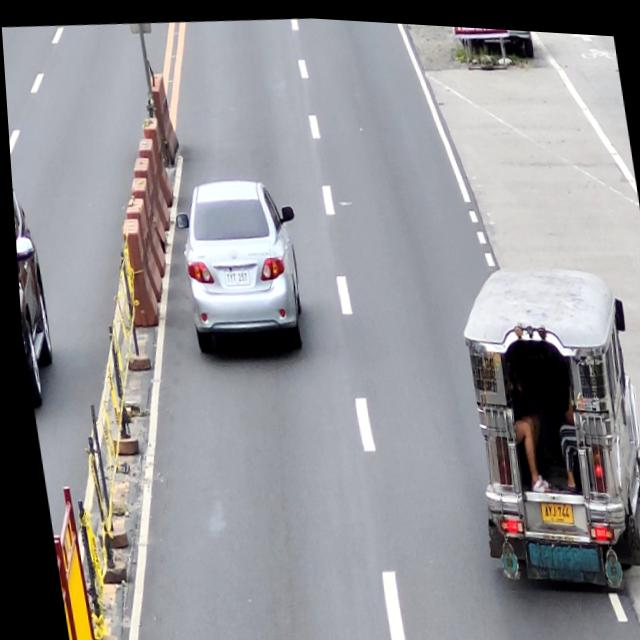Car: (167, 168, 312, 363)
Jeep: (444, 248, 640, 580)
License-Plate: (533, 493, 568, 519), (218, 265, 246, 284)
